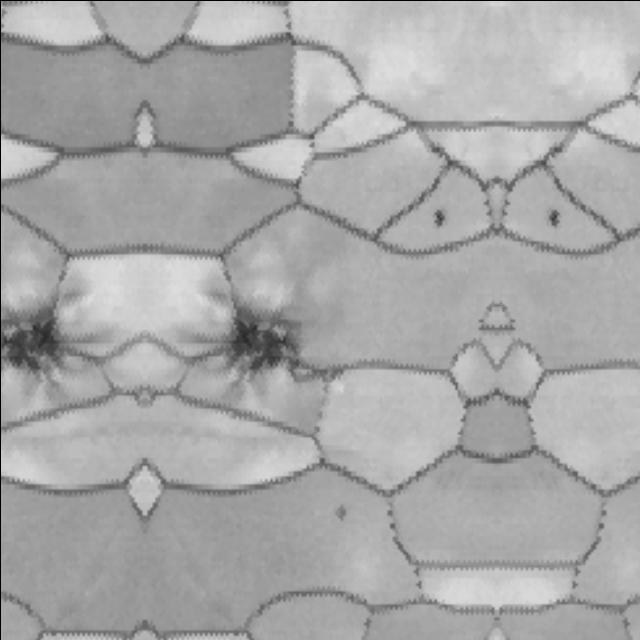good_void: (192, 300, 307, 384), (0, 300, 94, 384), (415, 206, 450, 234), (542, 206, 576, 234), (333, 501, 345, 527)
